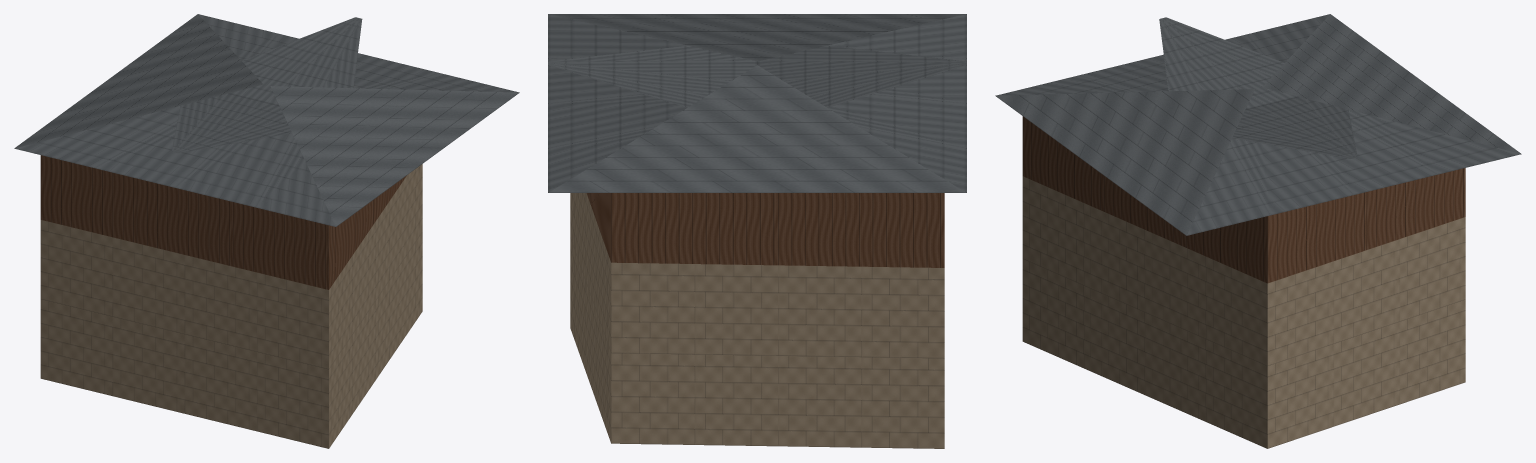
The model's file is bld_c24_-37_575.gltf.
3 views of the same model, side by side, from view 1: azimuth 30°, elevation 25°; view 2: azimuth 150°, elevation 25°; view 3: azimuth 270°, elevation 25° (orthographic). The views are drawn at different scales.
Parts seen in each view (by area): view 1: bld_c24_-37_575; view 2: bld_c24_-37_575; view 3: bld_c24_-37_575.
Part boxes in pixels (x1=…): bld_c24_-37_575: x1=14, y1=14, x2=519, y2=448; bld_c24_-37_575: x1=548, y1=14, x2=966, y2=448; bld_c24_-37_575: x1=995, y1=14, x2=1521, y2=448.
Bounding box in the file's own units: 12.95 × 7.6 × 12.99.
Materials: 3 (3 with a texture image).
